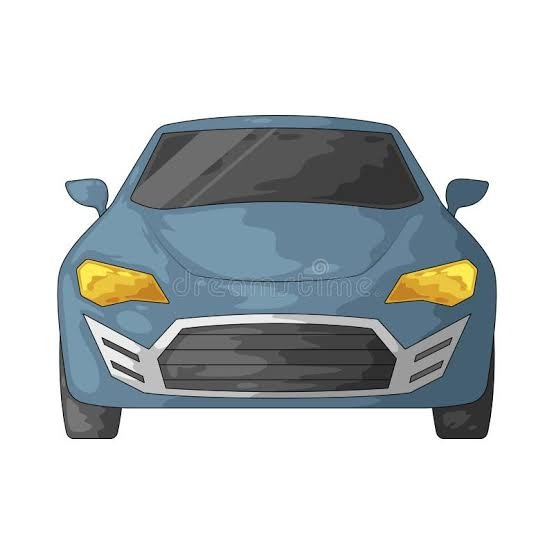car: (58, 115, 507, 432)
